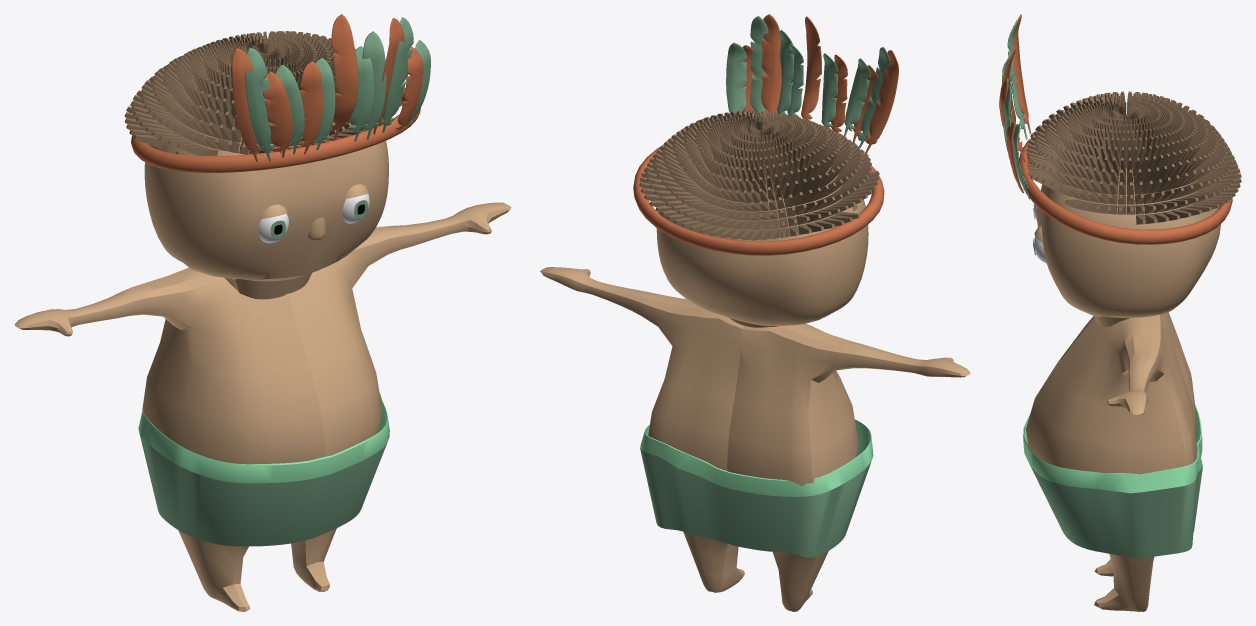
Rendered from karakterSELEMİR.fbx.
3 views of the same model, side by side, from view 1: azimuth 30°, elevation 25°; view 2: azimuth 150°, elevation 25°; view 3: azimuth 270°, elevation 25° (orthographic). The views are drawn at different scales.
Visible parts, largest first — view 1: Sphere.009, Torus.016, Cube.012, Sphere.010; view 2: Sphere.009, Sphere.010, Torus.016, Cube.012; view 3: Sphere.009, Sphere.010, Cube.012, Torus.016.
Boxes of the visible parts, bbox=[...] form: Sphere.009: bbox=[14, 87, 511, 611]; Torus.016: bbox=[131, 14, 430, 172]; Cube.012: bbox=[138, 393, 389, 546]; Sphere.010: bbox=[124, 31, 401, 155]; Sphere.009: bbox=[540, 154, 970, 611]; Sphere.010: bbox=[639, 110, 879, 240]; Torus.016: bbox=[633, 14, 898, 255]; Cube.012: bbox=[640, 419, 873, 557]; Sphere.009: bbox=[1026, 159, 1220, 611]; Sphere.010: bbox=[1026, 91, 1241, 224]; Cube.012: bbox=[1023, 404, 1202, 557]; Torus.016: bbox=[999, 14, 1232, 244].
Bounding box in the file's own units: 1107 × 532 × 1332.
